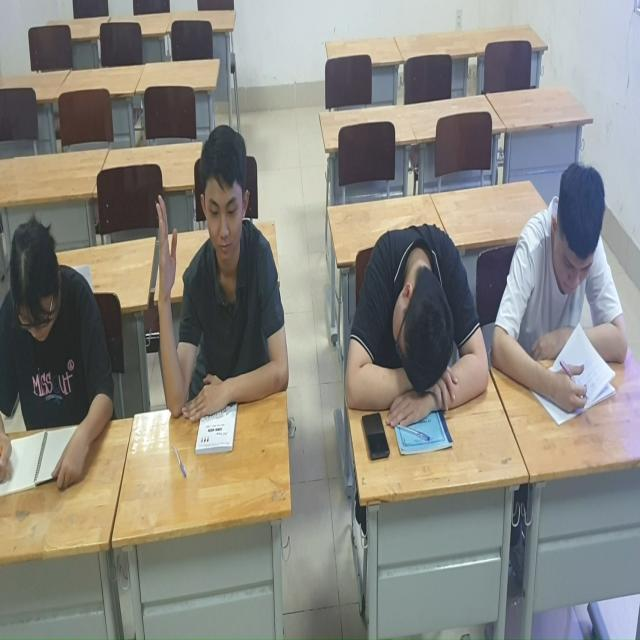raise_hand: (152, 123, 291, 461)
read: (494, 161, 630, 422), (1, 218, 115, 494)
sleep: (343, 223, 492, 435)
